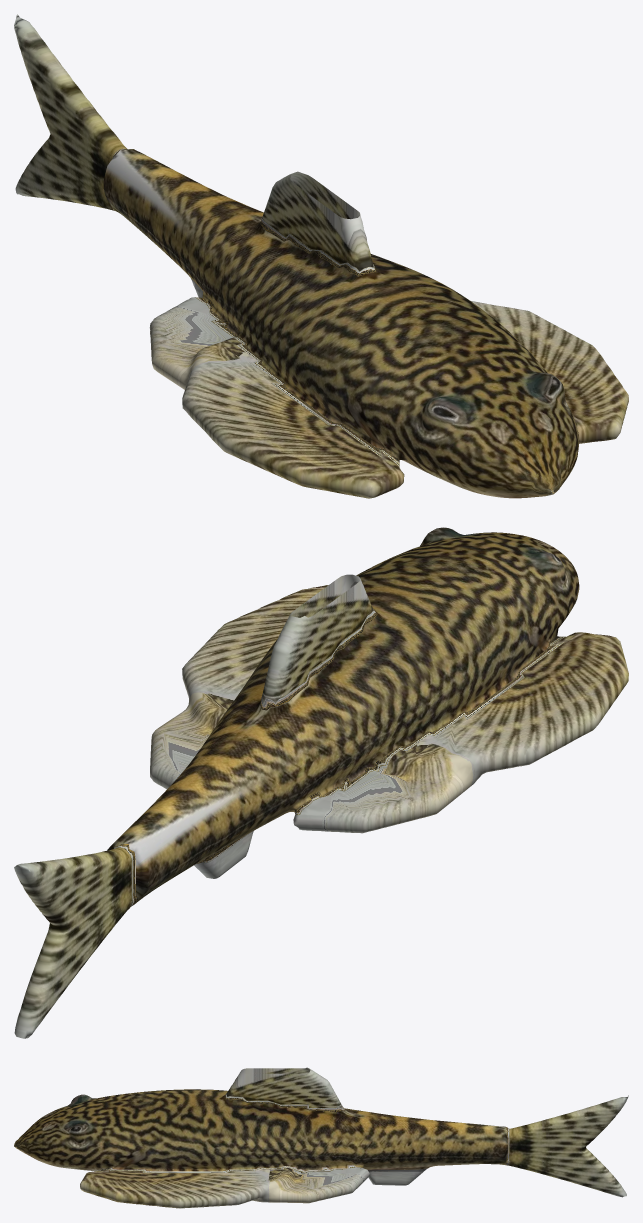
File: hillloach.glb
3 renders of one model, top to bottom at view 1: azimuth 30°, elevation 25°; view 2: azimuth 150°, elevation 25°; view 3: azimuth 270°, elevation 25°, orthographic. The views are drawn at different scales.
Visible parts, largest first — view 1: hillloach, hillloach_fin; view 2: hillloach, hillloach_fin; view 3: hillloach, hillloach_fin.
Part boxes in pixels (bbox=[...]): hillloach: bbox=[103, 149, 578, 498]; hillloach_fin: bbox=[14, 14, 628, 498]; hillloach: bbox=[107, 527, 579, 902]; hillloach_fin: bbox=[14, 574, 628, 1038]; hillloach: bbox=[14, 1089, 507, 1171]; hillloach_fin: bbox=[80, 1067, 628, 1208].
Bounding box in the file's own units: 0.0268 × 0.0151 × 0.0663.
2 materials, 2 textured.
